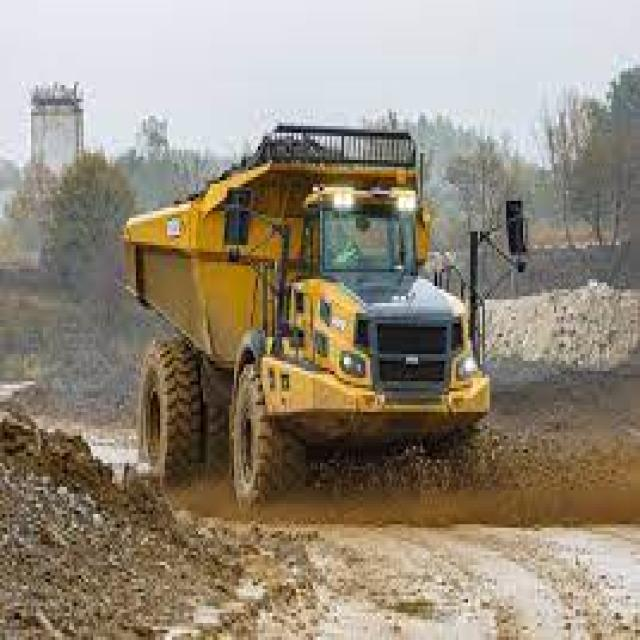dump_truck: (110, 112, 501, 524)
